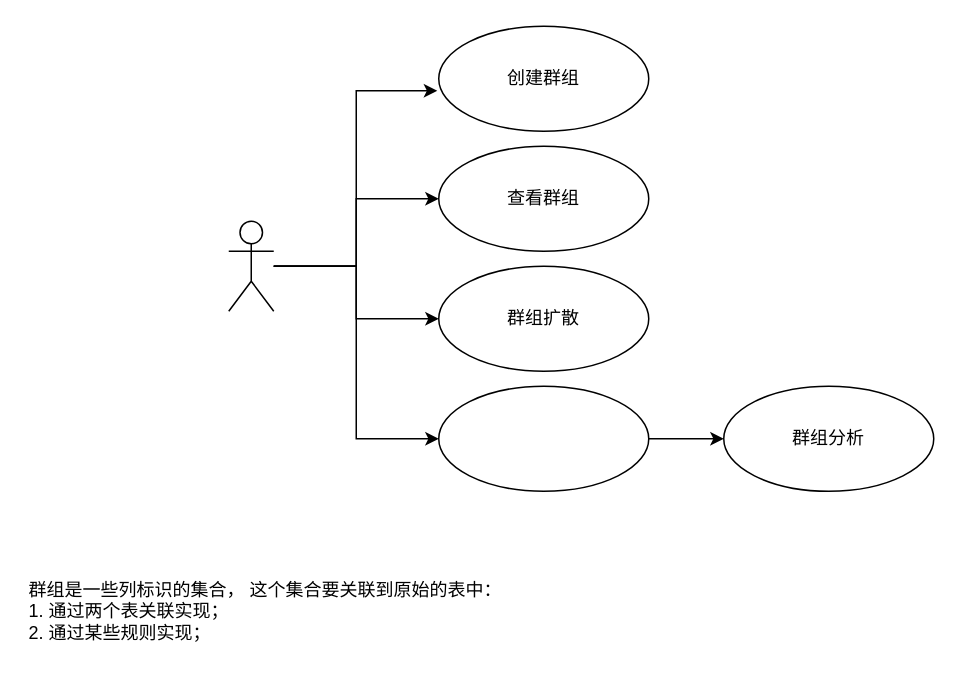
Image size: 960x675. Some labels were removed from this diagram. The shapes that lost their labels are listed below. From the top down, each one's box as (x1, y1, x2, y2) in pixels, then its label:
(227, 220, 274, 311): Actor
(437, 385, 649, 491): 使用群组
